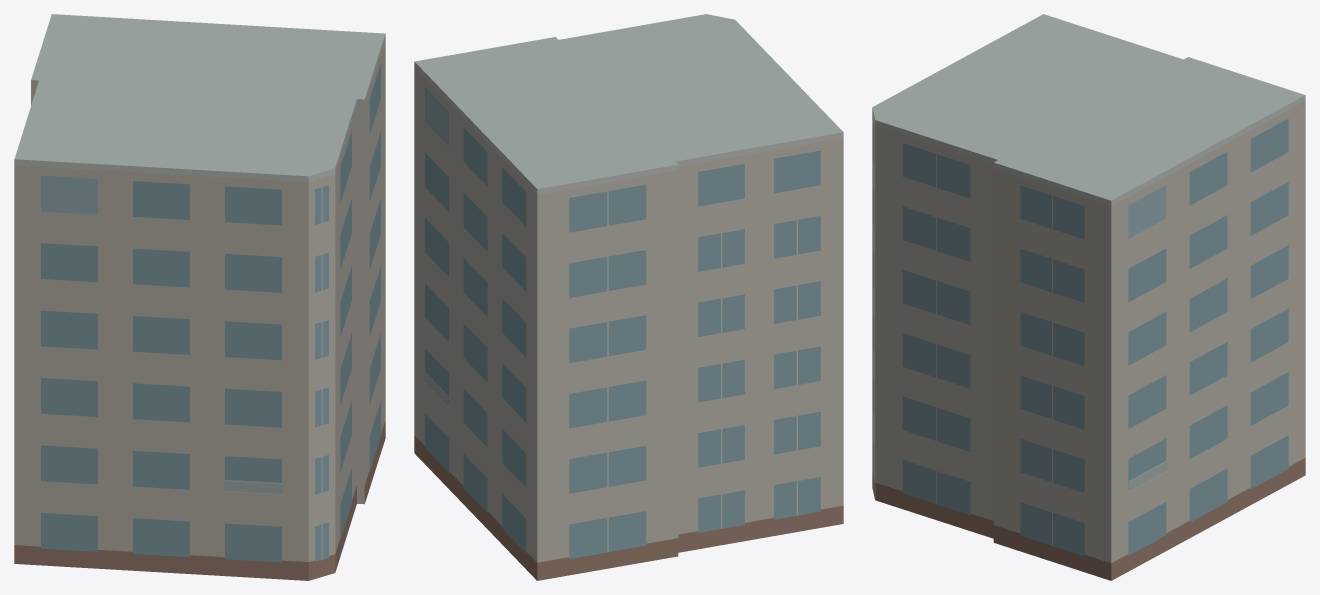
The model's file is survey-upis-33044937.glb.
The picture shows the model from 3 angles, left to right: view 1: azimuth 30°, elevation 25°; view 2: azimuth 150°, elevation 25°; view 3: azimuth 270°, elevation 25°; orthographic projection. The views are drawn at different scales.
Parts seen in each view (by area): view 1: survey-upis-33044937.tmp; view 2: survey-upis-33044937.tmp; view 3: survey-upis-33044937.tmp.
Part boxes in pixels (x1,y1,x2,y2): survey-upis-33044937.tmp: (14,14,385,580); survey-upis-33044937.tmp: (414,14,843,580); survey-upis-33044937.tmp: (872,14,1305,580).
Size of the model in its own units: 17.6 by 16.7 by 17.26.
